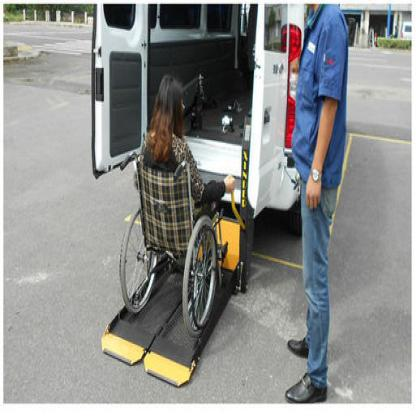wheelchair: (120, 74, 234, 328)
